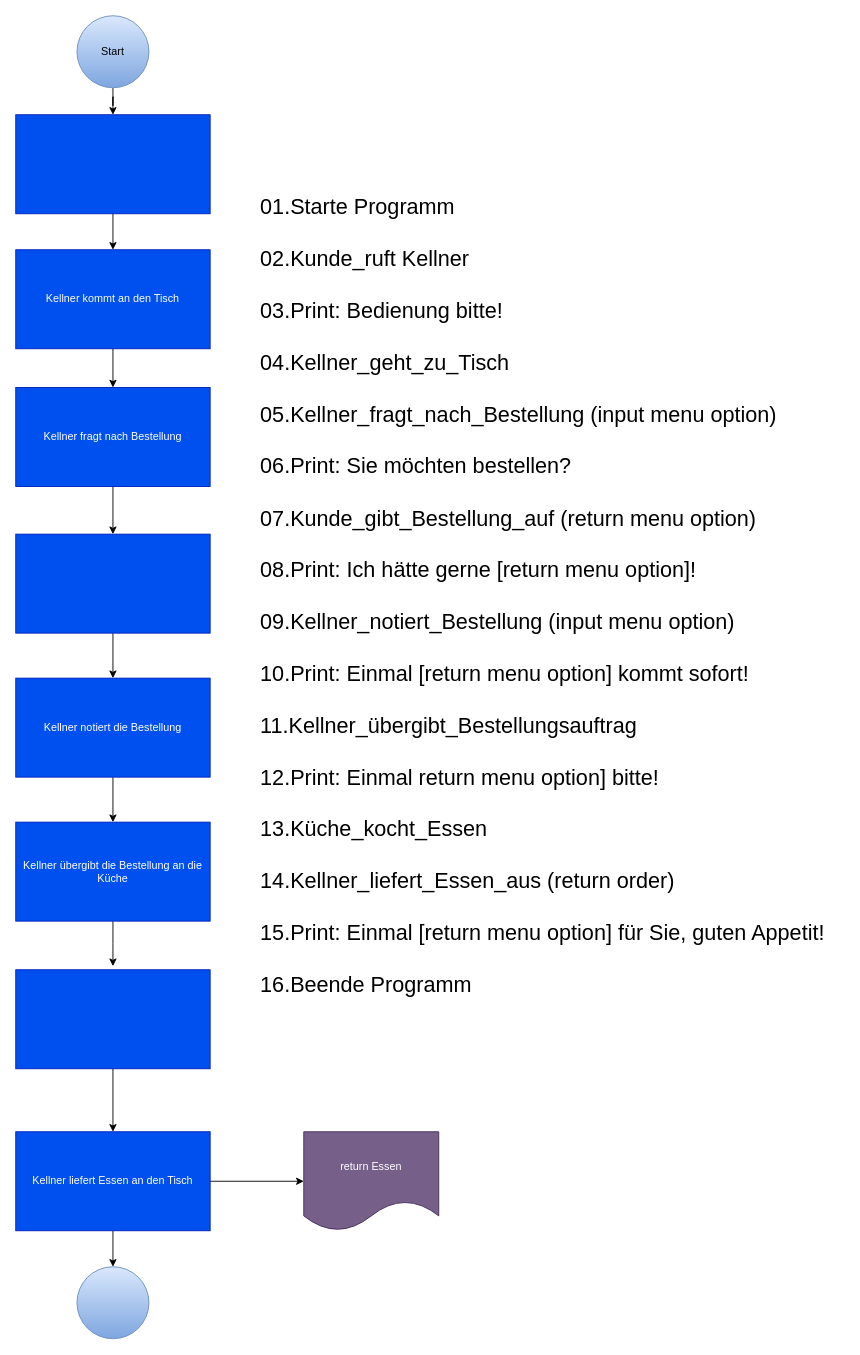
The diagram is 860 pixels wide and 1355 high, and some of its shapes have lost their labels. Each missing label, with the centre of its shape:
"Ende" goes at [112,1302].
"Kunde gibt Bestellung auf" goes at [112,583].
"Kunde ruft Kellner" goes at [112,164].
"Küche kocht Essen" goes at [112,1019].
